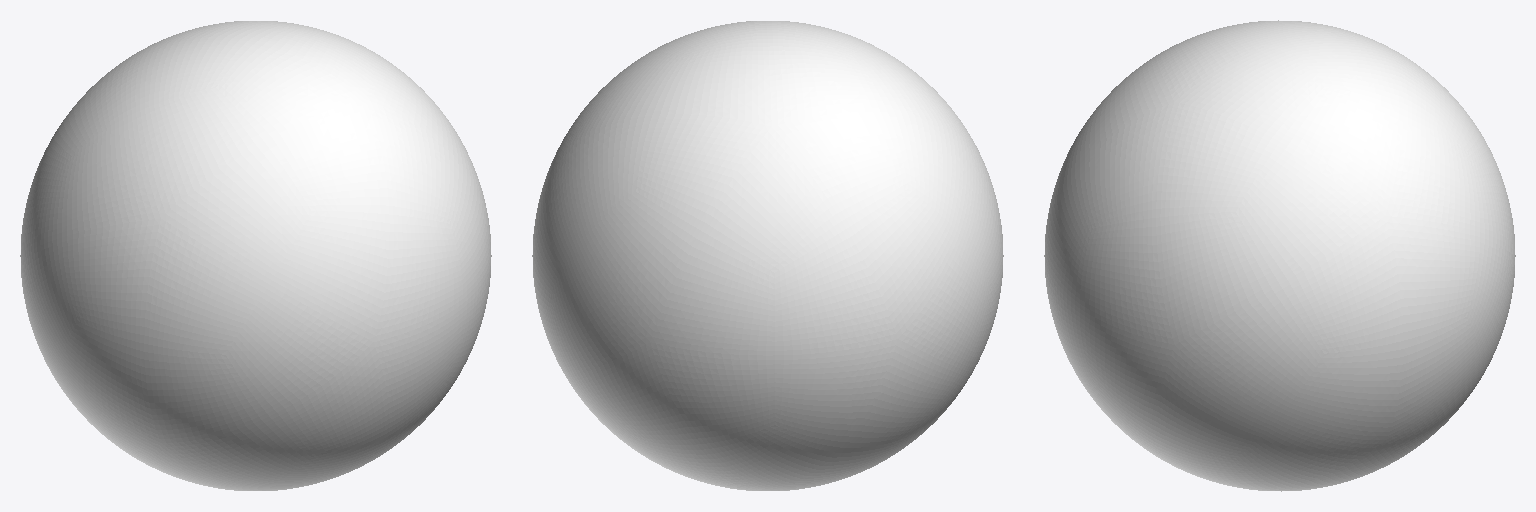
The model's file is orb_5.obj.
The picture shows the model from 3 angles: view 1: azimuth 30°, elevation 25°; view 2: azimuth 150°, elevation 25°; view 3: azimuth 270°, elevation 25°; orthographic projection.
Parts seen in each view (by area): view 1: pPlatonic1; view 2: pPlatonic1; view 3: pPlatonic1.
Part boxes in pixels (x1,y1,x2,y2): pPlatonic1: (20,21,491,490); pPlatonic1: (532,21,1003,490); pPlatonic1: (1044,20,1515,491).
Size of the model in its own units: 2 by 2 by 2.